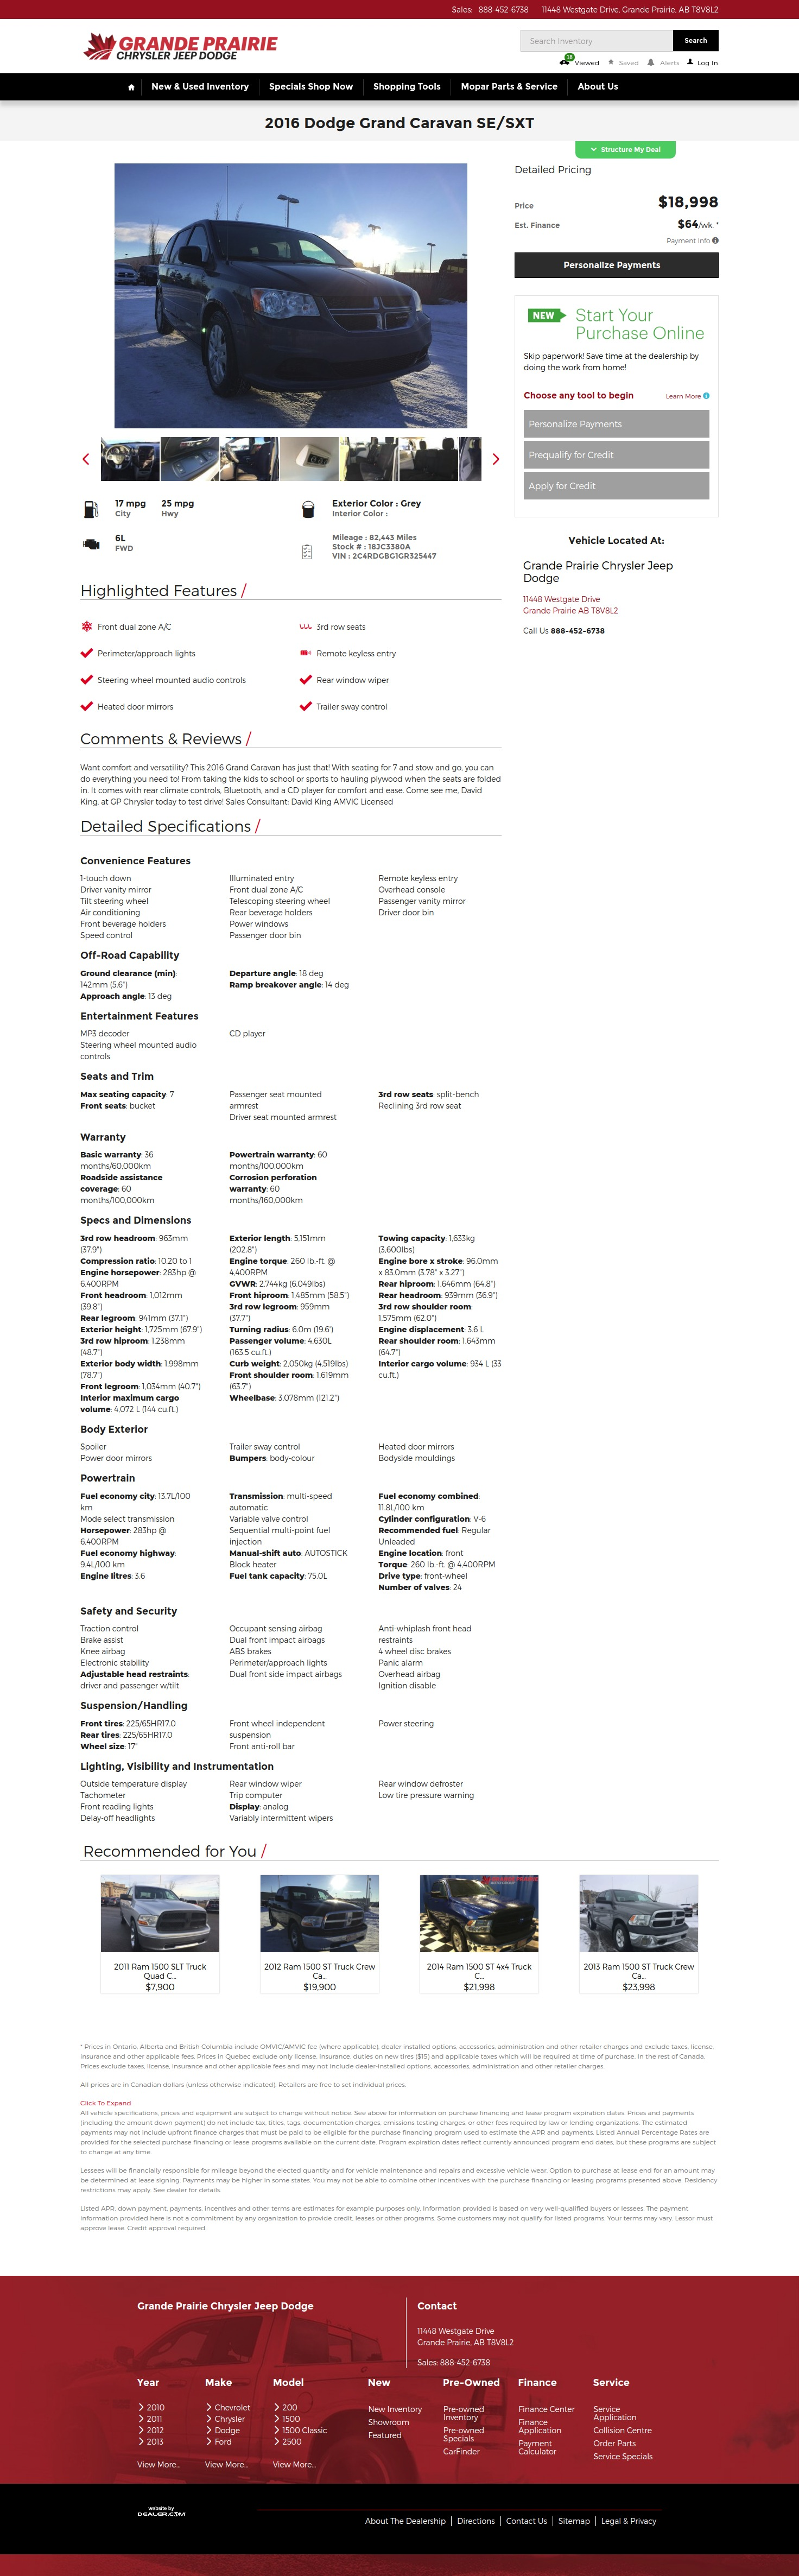car: (493, 453, 500, 465)
